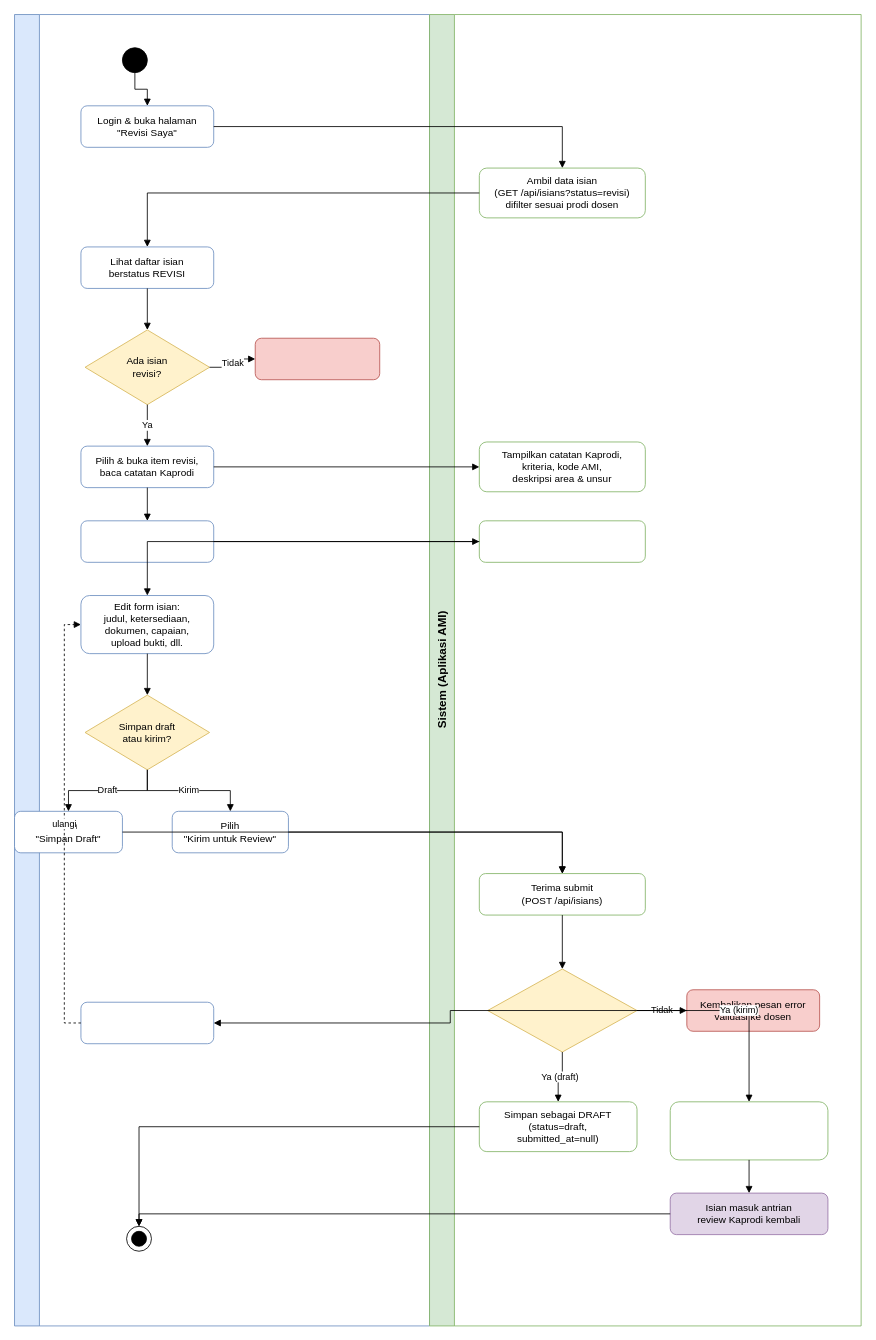
Some shapes in this 876 by 1340 pixel diagram are drawn without their labels. The box of each missing label's shape, as (x1, y1, x2, y2) in pixels:
Dosen: (14, 14, 430, 1326)
Klik "Perbaiki Isian": (80, 520, 214, 562)
Lolos validasi? (instrumen aktif & belum berstatus valid): (487, 968, 637, 1052)
Muat form & prefill data isian sebelumnya: (478, 520, 645, 562)
Perbaiki kembali data sesuai pesan validasi: (80, 1001, 214, 1044)
Selesai (tidak ada revisi): (254, 337, 380, 380)
Simpan & ubah status jadi PROSES (submitted_at=now, simpan file bukti): (669, 1101, 828, 1160)
